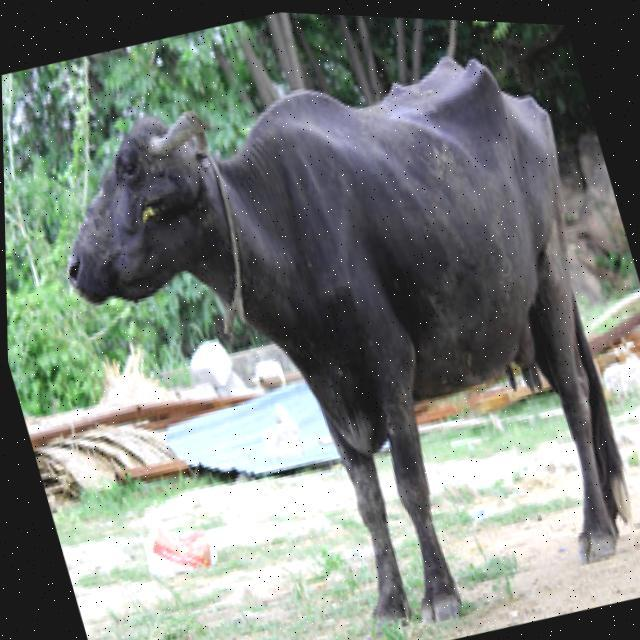Buffalo: (20, 1, 640, 640)
